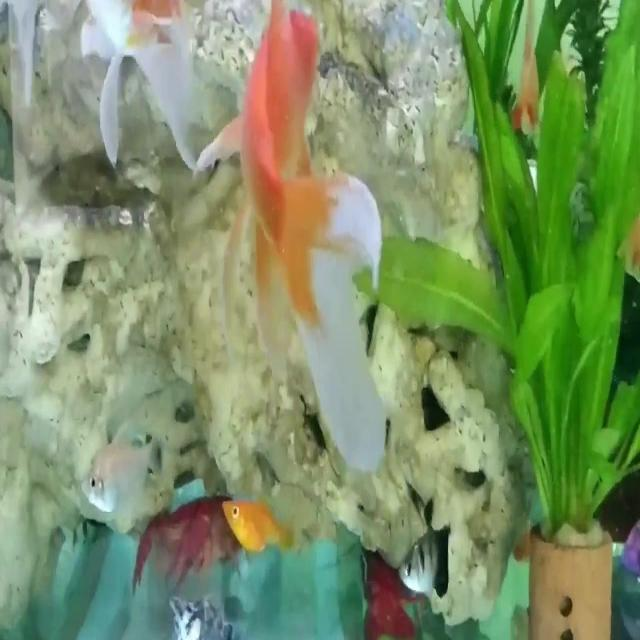GoldFish: (216, 8, 390, 500)
